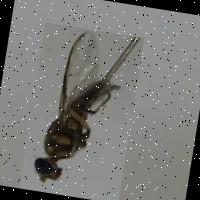Oriental-fruit-fly: (19, 21, 144, 200)
